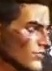kevin: (4, 1, 49, 68)
